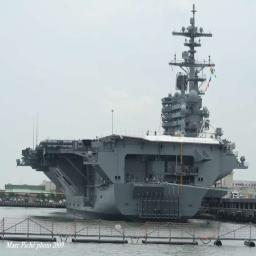Portanaves: (17, 4, 251, 230)
